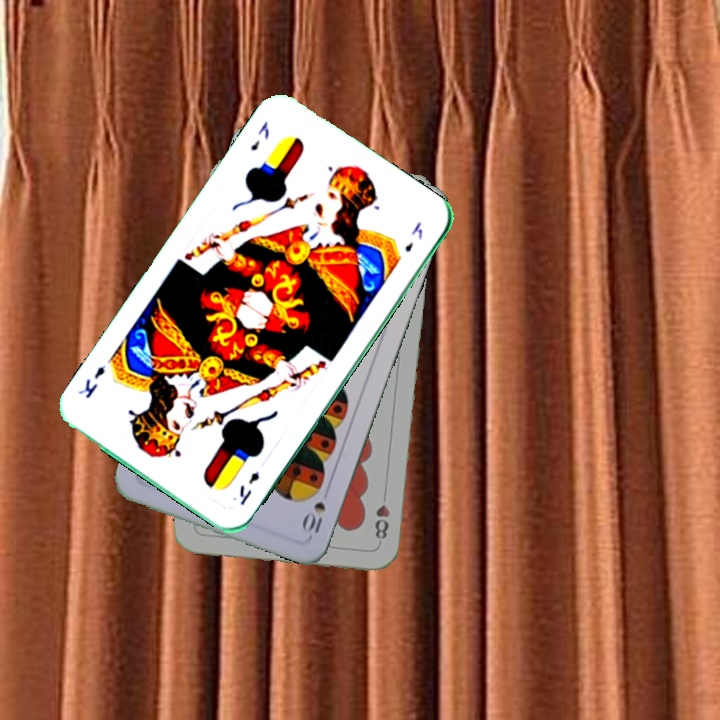EK: (235, 467, 263, 509), (246, 117, 272, 154)
H8: (371, 487, 392, 542)
S10: (299, 482, 333, 536)
